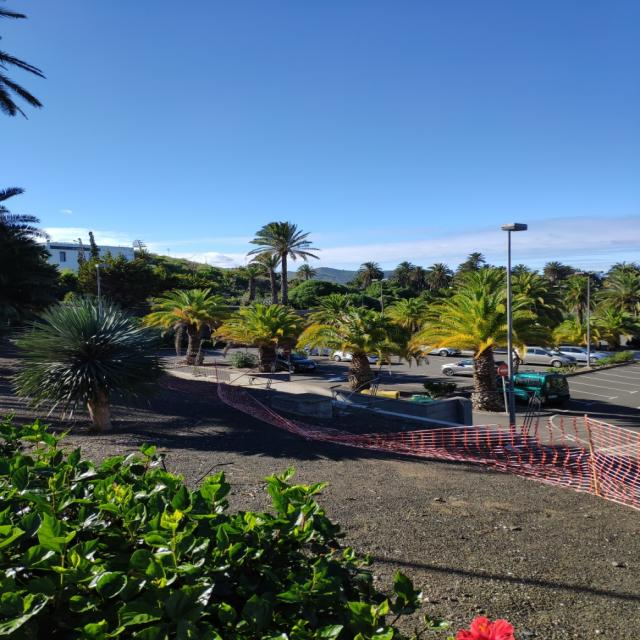Palm-Trees: (425, 291, 532, 411), (312, 309, 410, 390), (246, 219, 324, 304), (150, 292, 236, 363), (233, 304, 297, 370)
